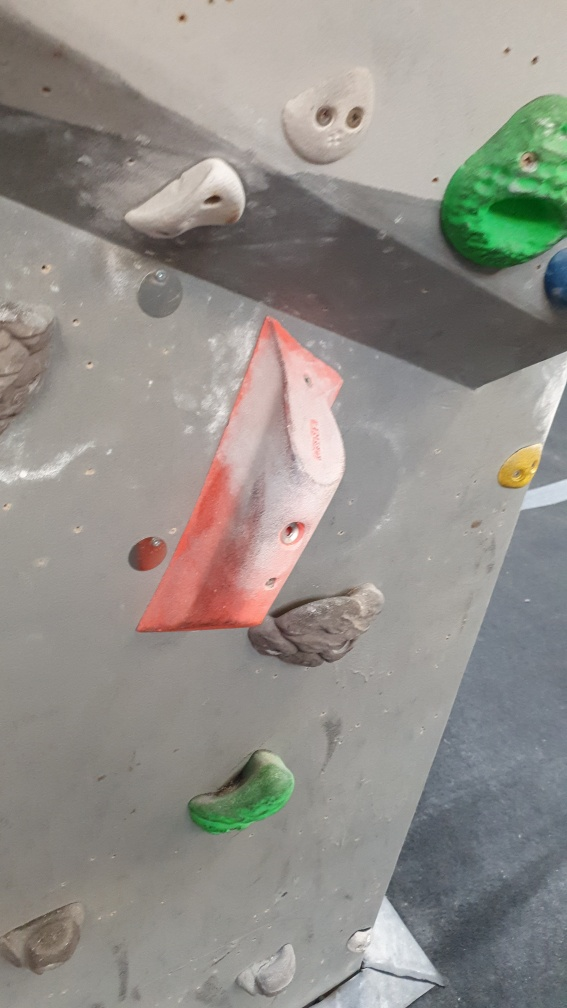Hand Start: (135, 264, 186, 322), (122, 531, 171, 575)
Jug: (243, 572, 388, 668), (185, 738, 299, 838)
Pinch: (129, 313, 350, 638)
